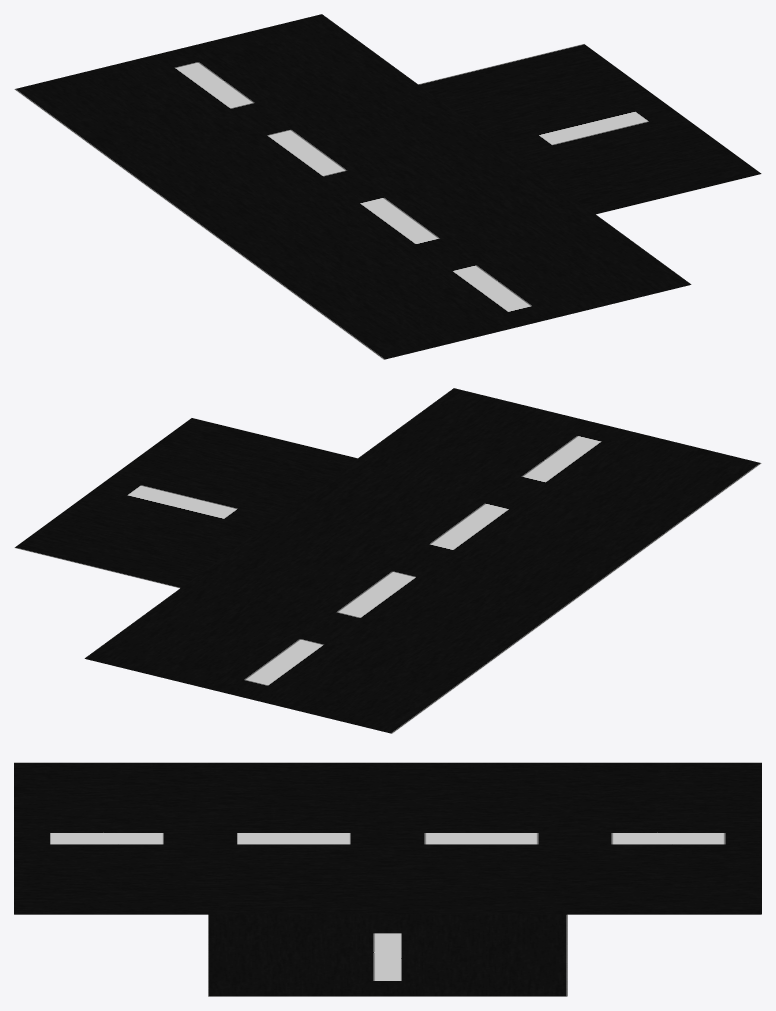
Rendered from Road_TeeIntersection.fbx.
The picture shows the model from 3 angles, top to bottom: view 1: azimuth 30°, elevation 25°; view 2: azimuth 150°, elevation 25°; view 3: azimuth 270°, elevation 25°; orthographic projection.
Visible parts, largest first — view 1: TeeIntersection; view 2: TeeIntersection; view 3: TeeIntersection.
Boxes of the visible parts, left/top/right/bottom form: TeeIntersection: left=14, top=14, right=761, bottom=359; TeeIntersection: left=14, top=388, right=761, bottom=733; TeeIntersection: left=14, top=762, right=761, bottom=996.
Size of the model in its own units: 51.47 by 0 by 69.5.
1 material, 1 textured.
